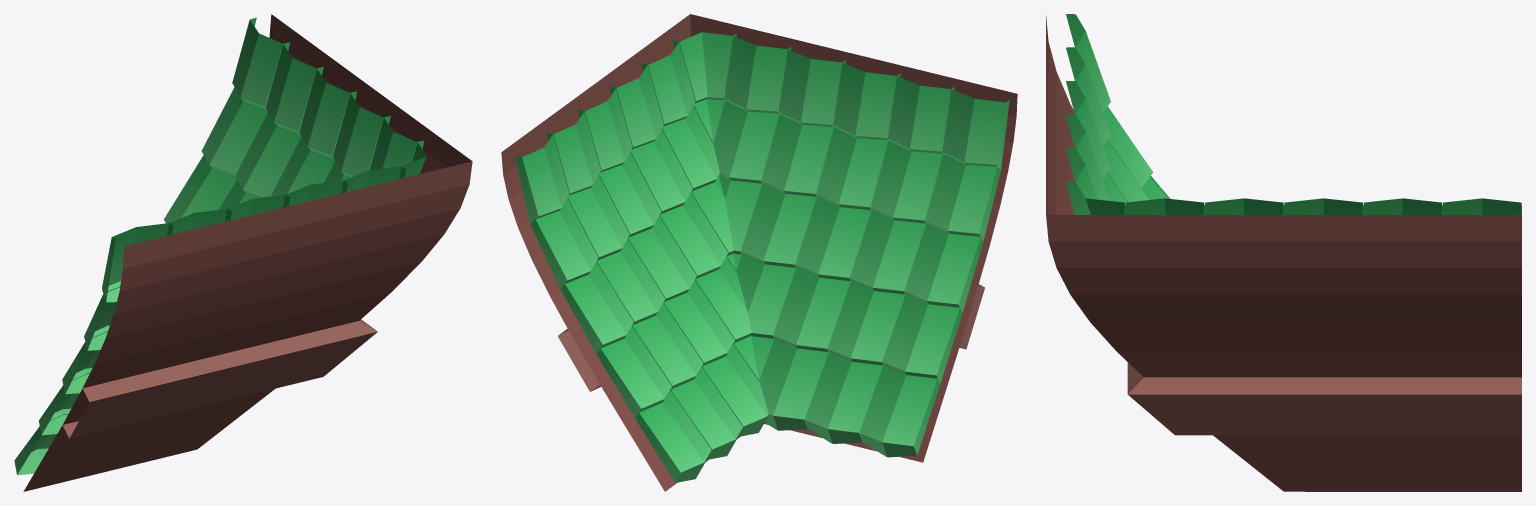
Rendered from RoofCorner_Small.fbx.
The picture shows the model from 3 angles, left to right: view 1: azimuth 30°, elevation 25°; view 2: azimuth 150°, elevation 25°; view 3: azimuth 270°, elevation 25°; orthographic projection. The views are drawn at different scales.
Visible parts, largest first — view 1: RoofCorner_Small; view 2: RoofCorner_Small; view 3: RoofCorner_Small.
Part boxes in pixels (<box>): RoofCorner_Small: <box>14,14,472,491</box>; RoofCorner_Small: <box>501,14,1017,491</box>; RoofCorner_Small: <box>1046,14,1521,491</box>.
Bounding box in the file's own units: 2.4 × 2.4 × 2.1.
